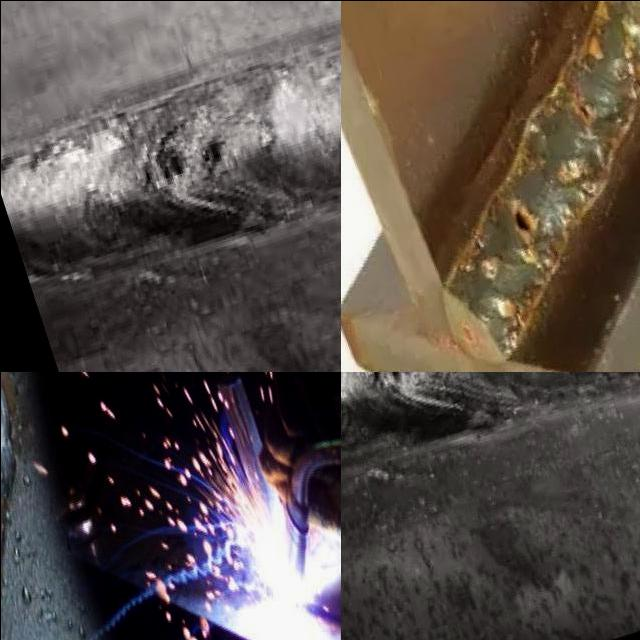defect: (137, 134, 183, 189), (193, 122, 225, 179), (370, 371, 416, 388), (511, 201, 532, 233), (572, 93, 592, 122)
